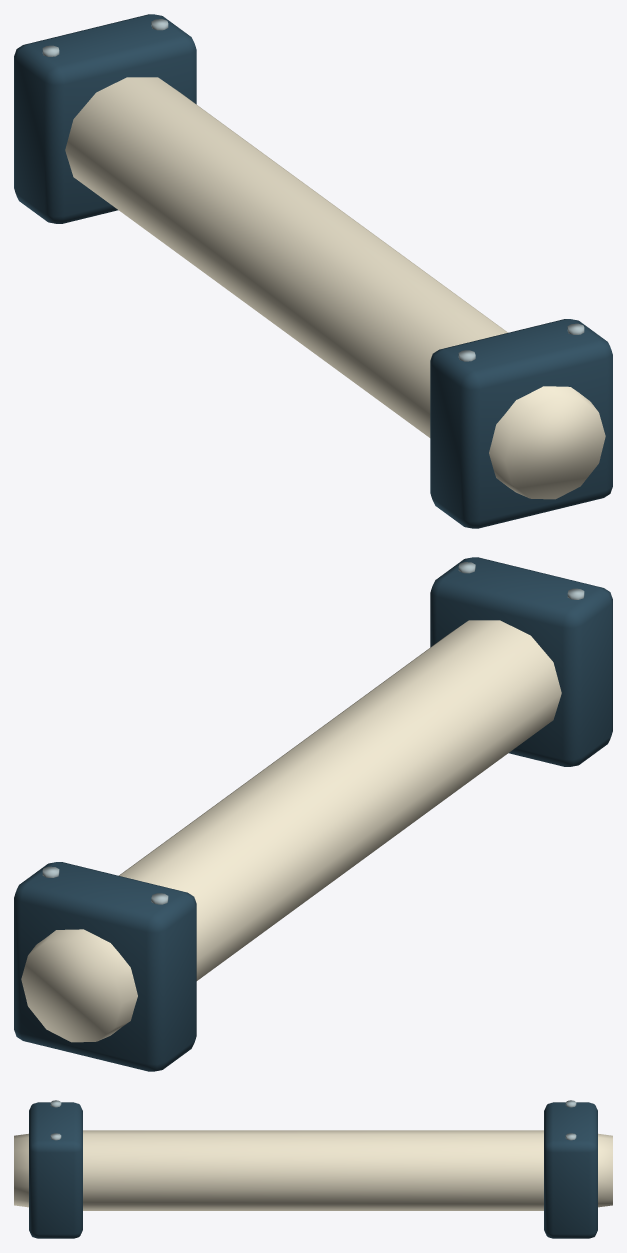
Rendered from strut.glb.
3 renders of one model, top to bottom at view 1: azimuth 30°, elevation 25°; view 2: azimuth 150°, elevation 25°; view 3: azimuth 270°, elevation 25°, orthographic. The views are drawn at different scales.
Visible parts, largest first — view 1: strut_Ivory, strut_Navy, strut_Aluminium; view 2: strut_Ivory, strut_Navy, strut_Aluminium; view 3: strut_Ivory, strut_Navy, strut_Aluminium.
Boxes of the visible parts, x1=… form: strut_Ivory: x1=65, y1=77, x2=605, y2=499; strut_Navy: x1=14, y1=14, x2=612, y2=528; strut_Aluminium: x1=42, y1=19, x2=584, y2=361; strut_Ivory: x1=21, y1=620, x2=561, y2=1042; strut_Navy: x1=14, y1=557, x2=612, y2=1071; strut_Aluminium: x1=42, y1=562, x2=584, y2=904; strut_Ivory: x1=14, y1=1130, x2=612, y2=1210; strut_Navy: x1=29, y1=1102, x2=597, y2=1238; strut_Aluminium: x1=50, y1=1100, x2=576, y2=1140.
Bounding box in the file's own units: 0.18 × 0.185 × 1.
